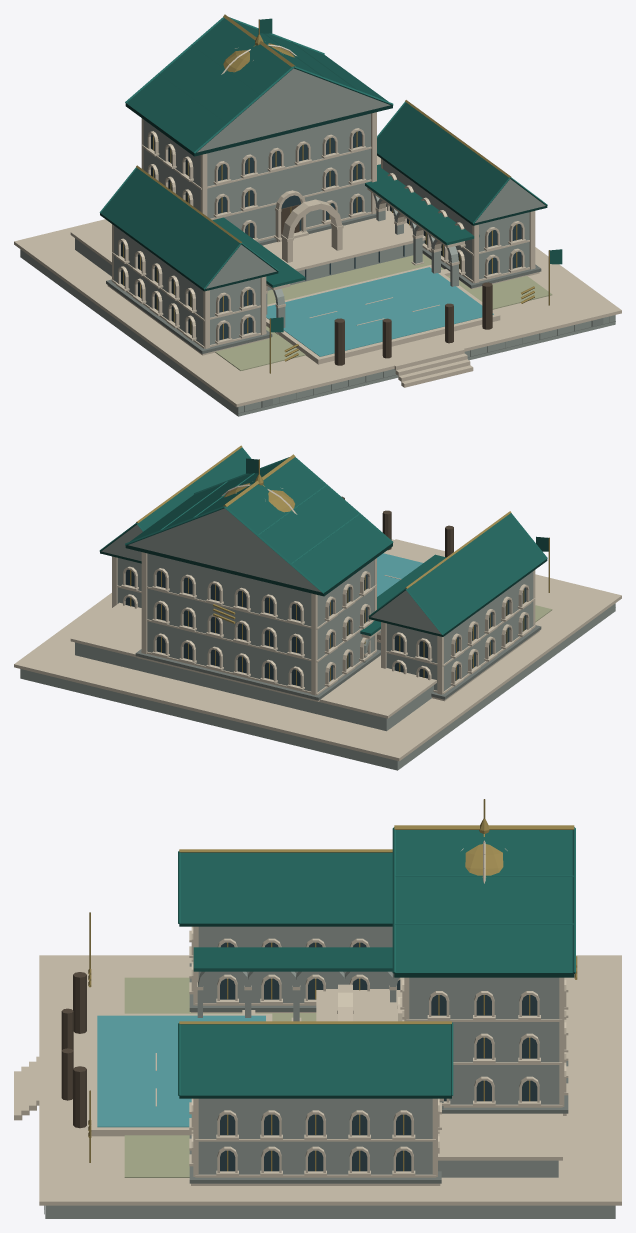
Rendered from lagoon.glb.
3 views of the same model, one above another, from view 1: azimuth 30°, elevation 25°; view 2: azimuth 150°, elevation 25°; view 3: azimuth 270°, elevation 25° (orthographic). The views are drawn at different scales.
Visible parts, largest first — view 1: tidewater-chancery, tidewater-chancery-roof, precinct-base, inhabited-detail; view 2: tidewater-chancery, tidewater-chancery-roof, precinct-base; view 3: tidewater-chancery, tidewater-chancery-roof, precinct-base, inhabited-detail.
Part boxes in pixels (x1,y1,x2,y2): tidewater-chancery: (70, 18, 541, 365); tidewater-chancery-roof: (99, 14, 547, 291); precinct-base: (14, 155, 621, 416); inhabited-detail: (238, 249, 615, 413); tidewater-chancery: (70, 458, 541, 731); tidewater-chancery-roof: (99, 445, 547, 636); precinct-base: (14, 539, 621, 770); tidewater-chancery: (61, 799, 577, 1185); tidewater-chancery-roof: (178, 819, 575, 1098); precinct-base: (39, 955, 621, 1218); inhabited-detail: (14, 912, 91, 1214).
Size of the model in its own units: 23.5 by 13.3 by 24.52.
